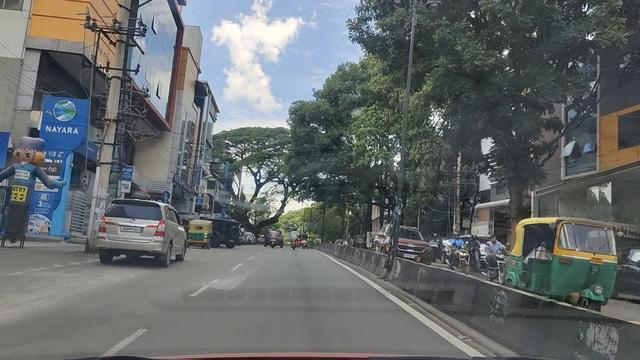LMV: (107, 194, 192, 273)
RoadDamages: (204, 266, 254, 297)
